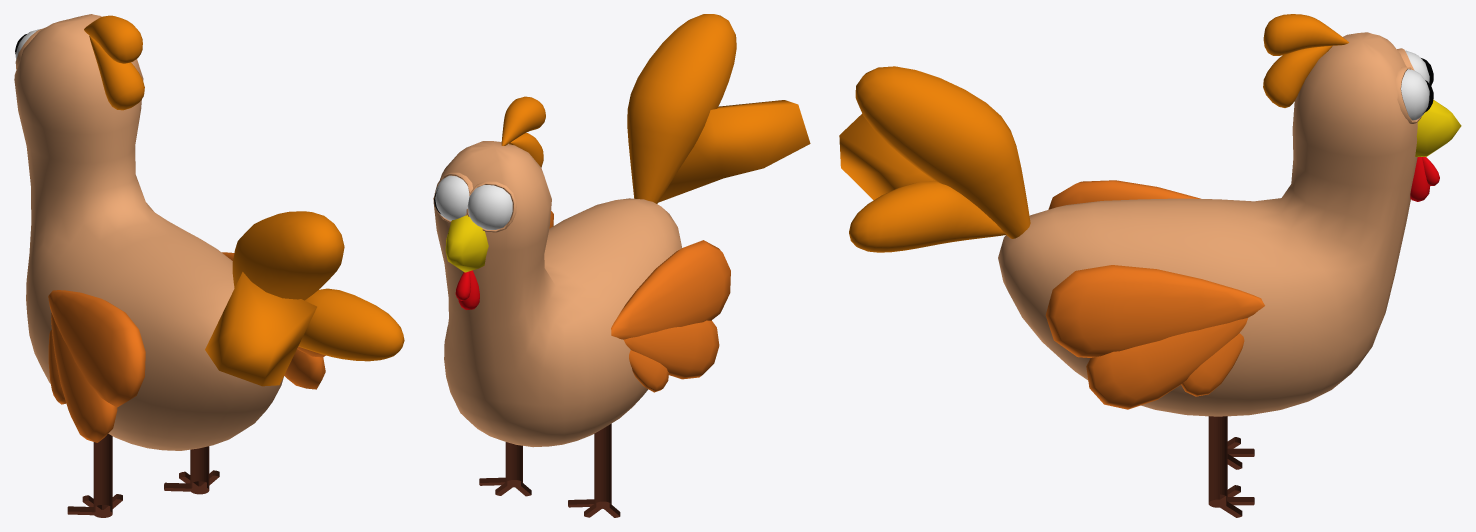
The model's file is nicePoule.fbx.
The picture shows the model from 3 angles, left to right: view 1: azimuth 30°, elevation 25°; view 2: azimuth 150°, elevation 25°; view 3: azimuth 270°, elevation 25°; orthographic projection. The views are drawn at different scales.
Visible parts, largest first — view 1: Cube.032; view 2: Cube.032; view 3: Cube.032.
Part boxes in pixels (x1,y1,x2,y2): Cube.032: (14,14,404,517); Cube.032: (433,14,810,517); Cube.032: (839,14,1461,517).
Bounding box in the file's own units: 116 × 95.63 × 51.88.
